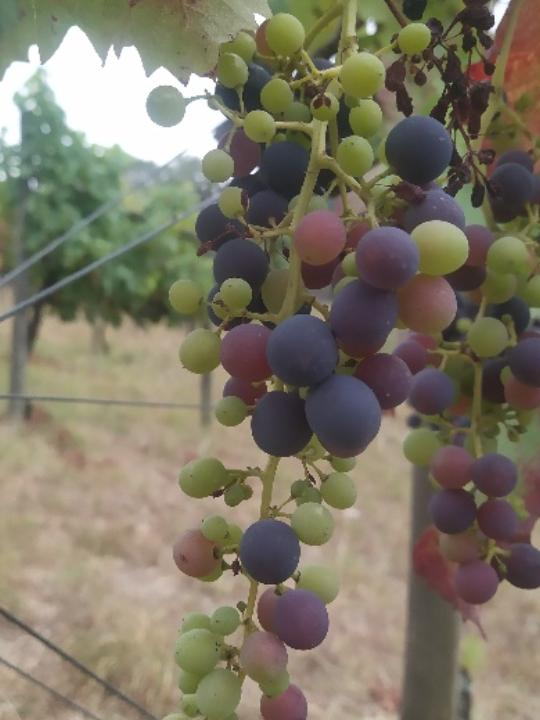grape: (145, 0, 468, 720), (403, 141, 540, 609), (386, 0, 540, 217)
